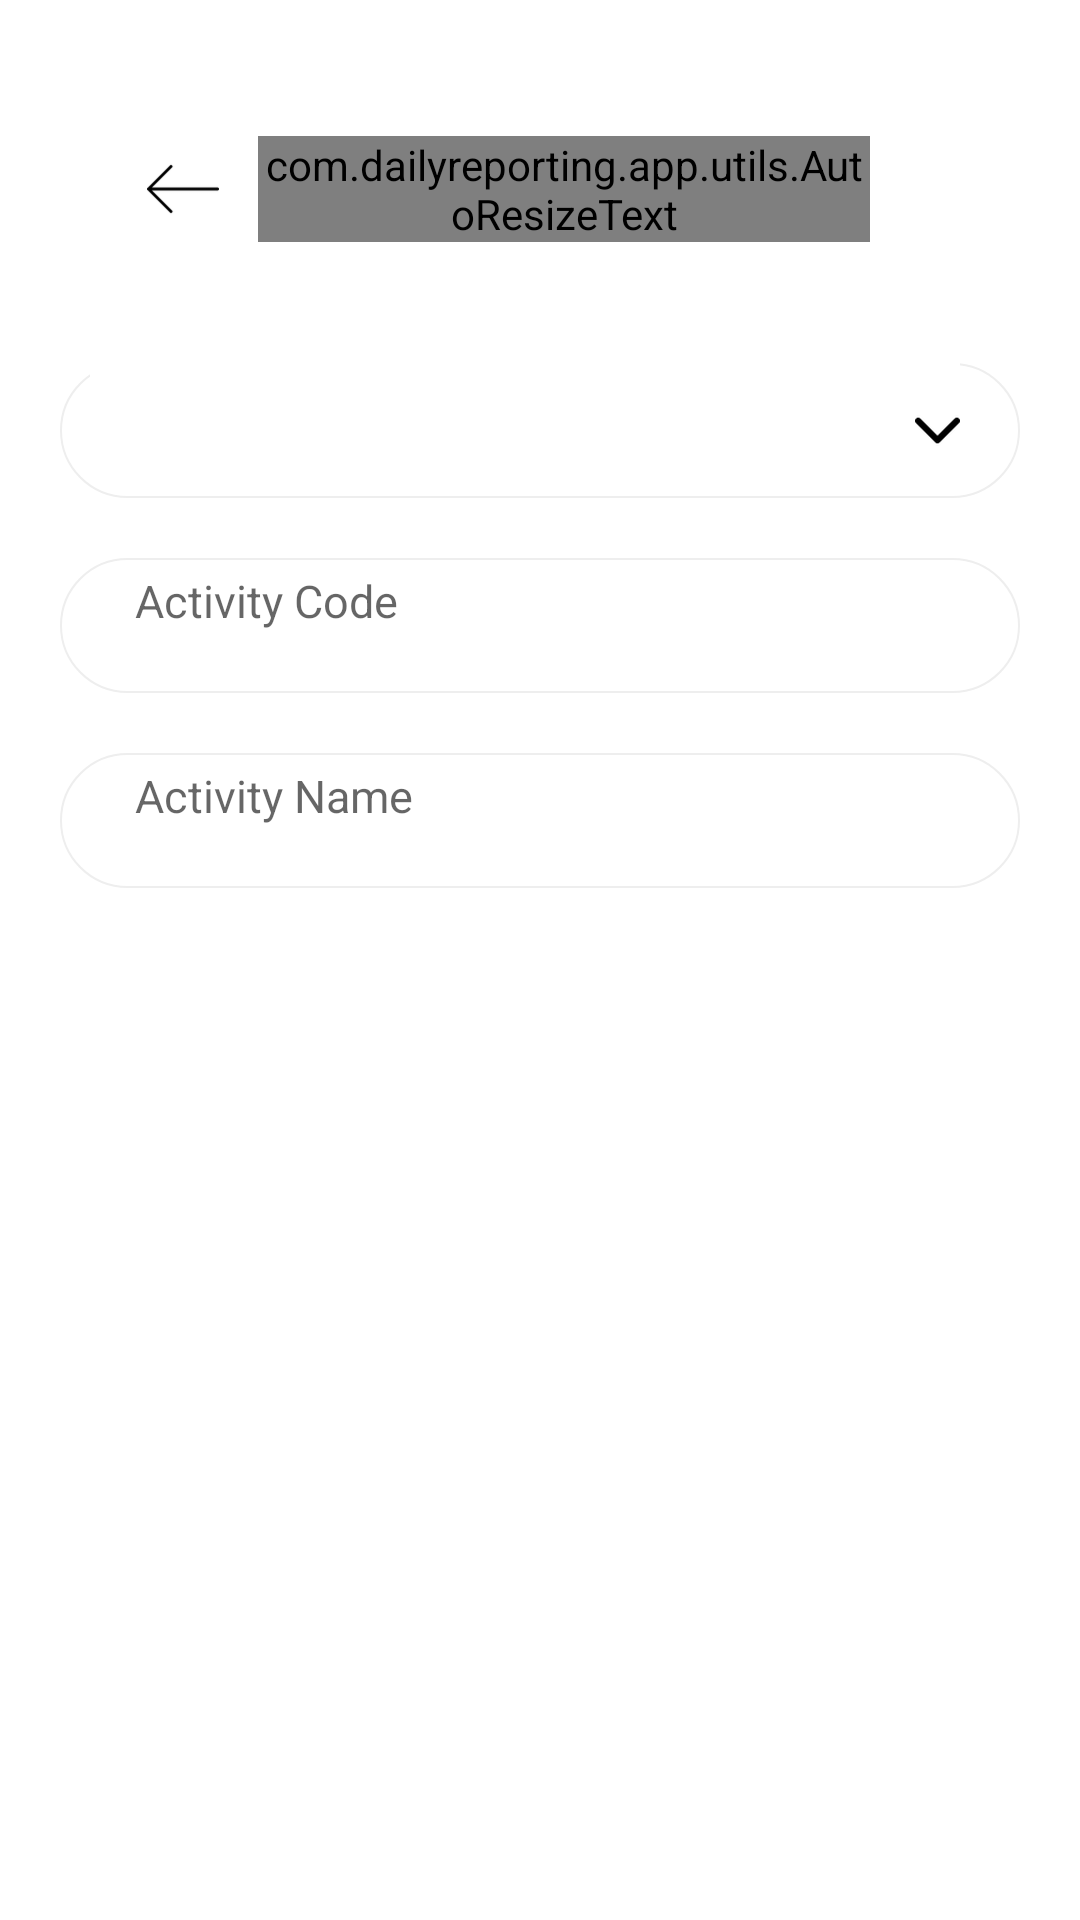

Point at icon controls on the screen. Image size 1080 × 1920, points as (x,y).
backarrow: (183,189)
downarrow: (937,430)
